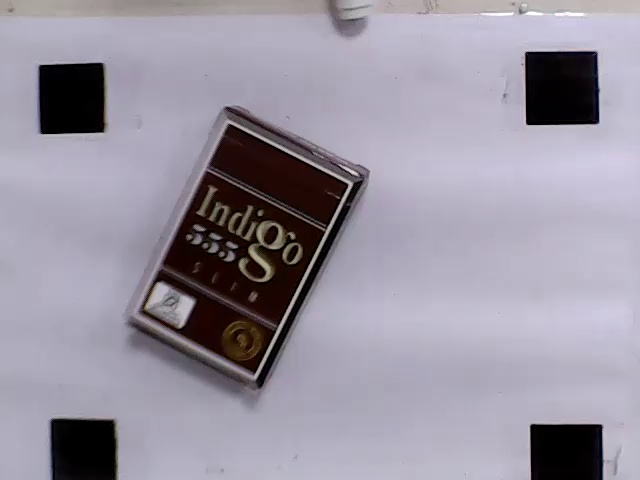BEX: (136, 122, 352, 377)
